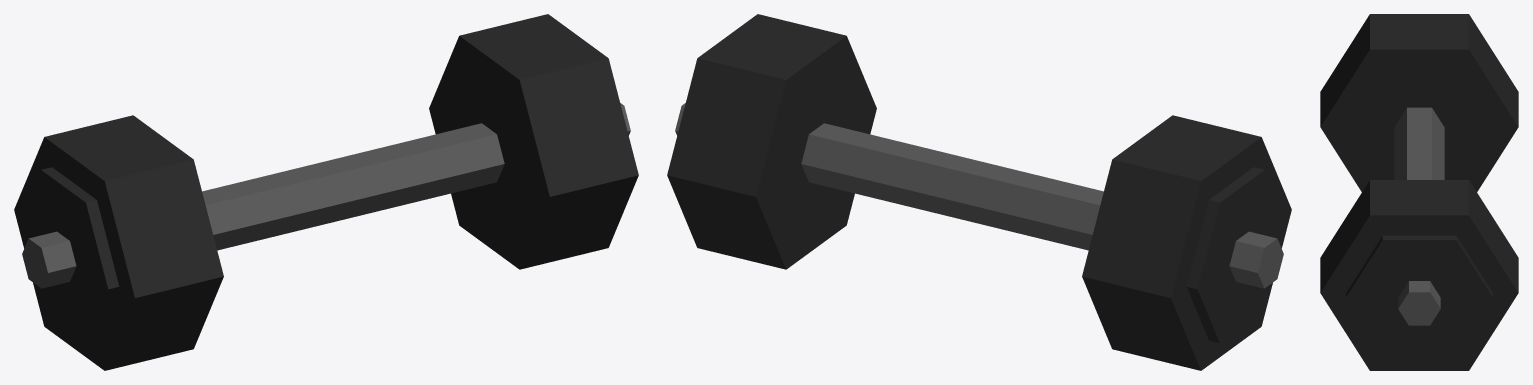
Rendered from Dumbell2.fbx.
The picture shows the model from 3 angles, left to right: view 1: azimuth 30°, elevation 25°; view 2: azimuth 150°, elevation 25°; view 3: azimuth 270°, elevation 25°; orthographic projection. The views are drawn at different scales.
Parts seen in each view (by area): view 1: Dumbell2; view 2: Dumbell2; view 3: Dumbell2.
Boxes of the visible parts, <box> form: Dumbell2: <box>14,14,638,370</box>; Dumbell2: <box>667,14,1291,370</box>; Dumbell2: <box>1320,14,1518,370</box>.
Size of the model in its own units: 1.52 by 0.4721 by 0.5452.
